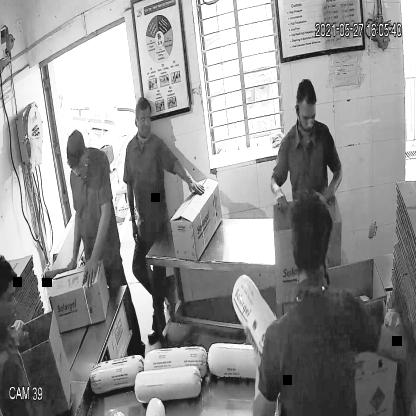no_goggles: (293, 101, 318, 129), (65, 156, 90, 179)
